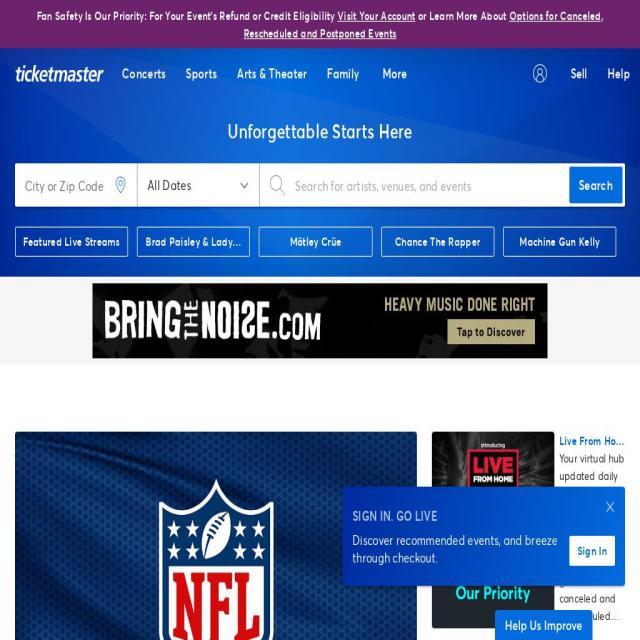button: (227, 48, 317, 98), (502, 226, 617, 256), (15, 226, 129, 256), (137, 226, 251, 256), (258, 226, 372, 256), (380, 226, 494, 256), (112, 48, 176, 98), (495, 610, 593, 640), (175, 48, 228, 98), (317, 48, 370, 98), (370, 48, 418, 98), (597, 48, 640, 98), (558, 48, 598, 98), (570, 167, 622, 203), (260, 163, 296, 207), (568, 536, 616, 566), (559, 537, 625, 555), (559, 432, 625, 449), (605, 500, 615, 517)
field: (295, 163, 567, 207), (15, 163, 115, 207)
heading: (15, 118, 625, 144), (15, 65, 104, 82)
iframe: (92, 284, 548, 358), (495, 610, 593, 640)
image: (0, 48, 640, 277), (265, 48, 640, 276), (270, 175, 286, 195), (239, 178, 250, 192), (605, 500, 615, 513)
link: (243, 7, 603, 41), (338, 8, 416, 24)
text: (352, 531, 560, 566), (36, 8, 338, 24), (559, 554, 625, 625), (559, 449, 625, 519), (352, 507, 560, 524), (23, 227, 121, 256), (145, 227, 243, 256), (267, 227, 364, 256), (389, 227, 486, 256), (511, 227, 608, 256), (148, 176, 235, 194), (415, 8, 510, 24), (559, 537, 625, 555), (559, 432, 625, 449), (382, 64, 407, 83), (570, 64, 588, 83)
